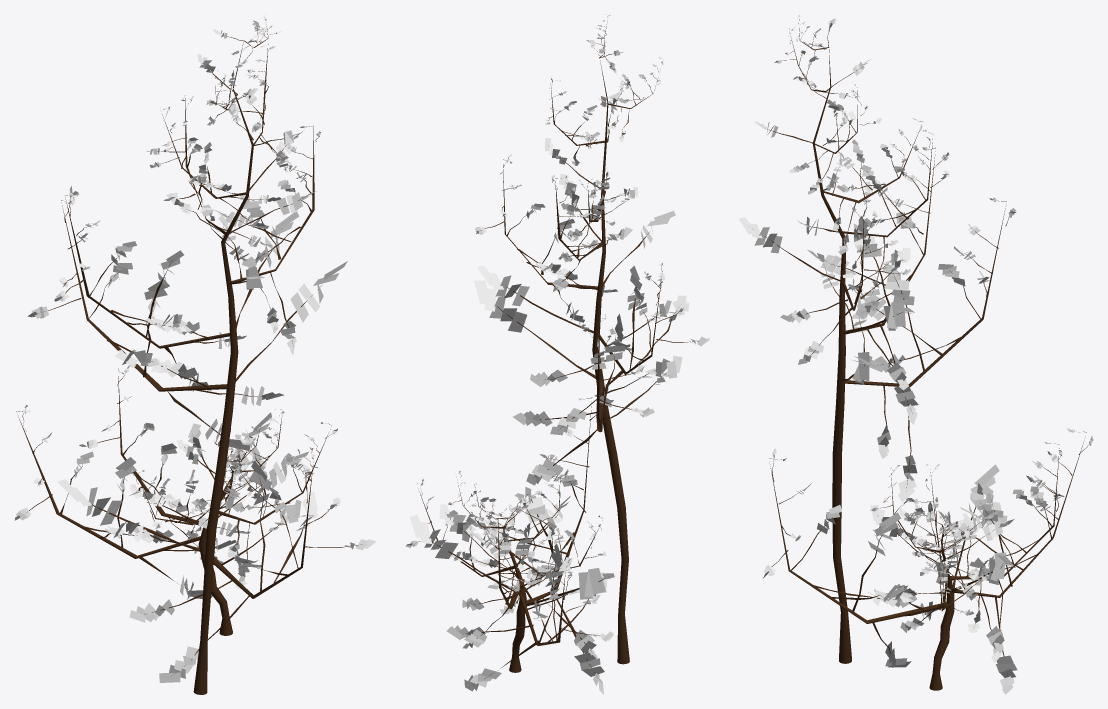
Rendered from koks11mesh.fbx.
The picture shows the model from 3 angles, left to right: view 1: azimuth 30°, elevation 25°; view 2: azimuth 150°, elevation 25°; view 3: azimuth 270°, elevation 25°; orthographic projection. The views are drawn at different scales.
Parts seen in each view (by area): view 1: Koks2.001; view 2: Koks2.001; view 3: Koks2.001.
Boxes of the visible parts, <box> form: Koks2.001: <box>14,14,376,694</box>; Koks2.001: <box>405,14,709,694</box>; Koks2.001: <box>738,14,1093,694</box>.
Size of the model in its own units: 15.73 by 34.85 by 16.6.
